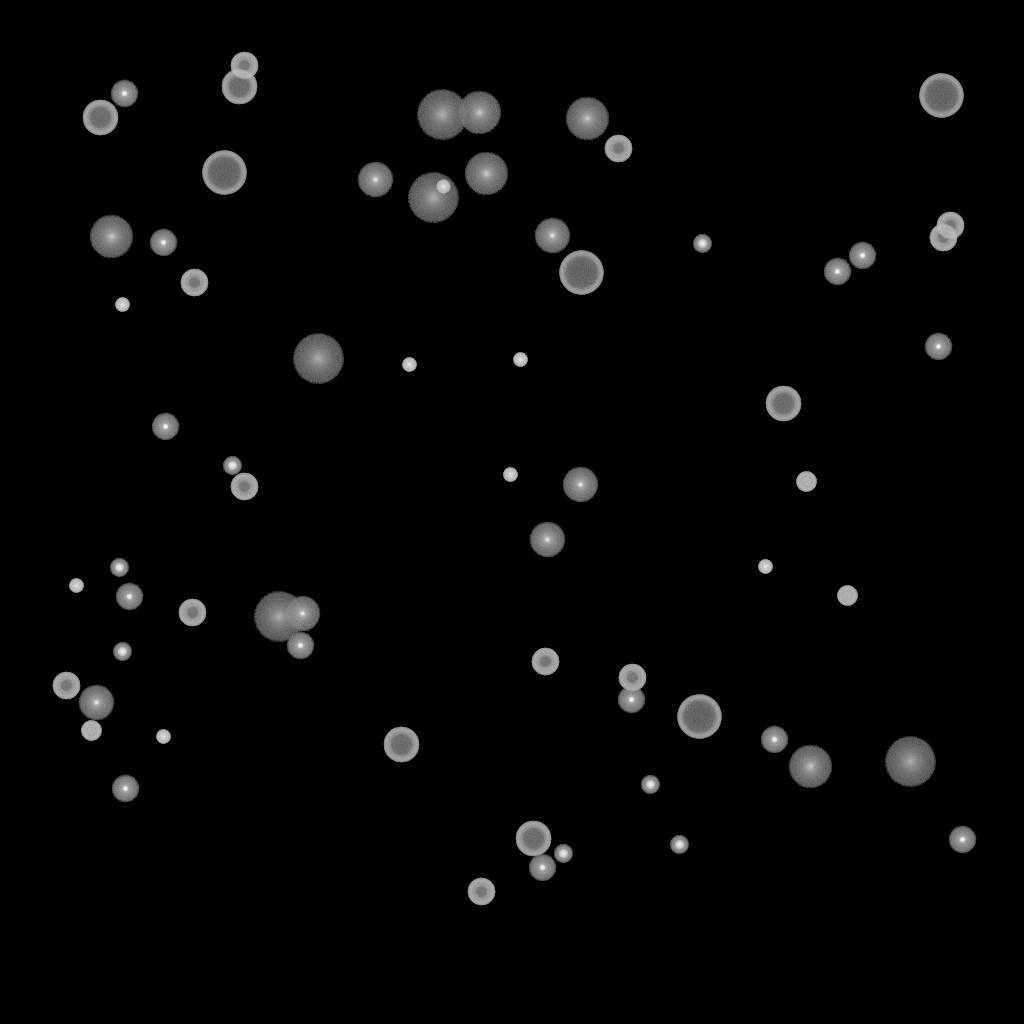depth:-10: (110, 80, 138, 108), (111, 775, 139, 803), (760, 726, 788, 754), (286, 632, 314, 660), (151, 413, 179, 441), (823, 258, 851, 286), (617, 686, 645, 714), (528, 854, 556, 882), (149, 229, 177, 257), (848, 242, 876, 270), (948, 826, 976, 854), (924, 333, 952, 361), (115, 583, 143, 611)
depth:-20: (670, 836, 688, 854), (693, 235, 711, 253), (223, 457, 241, 475), (113, 643, 131, 661), (554, 845, 572, 863), (110, 559, 128, 577), (641, 776, 659, 794)
depth:-30: (758, 560, 772, 574), (503, 468, 517, 482), (115, 298, 129, 312), (436, 180, 450, 194), (402, 358, 416, 372), (69, 579, 83, 593), (513, 353, 527, 367), (156, 730, 170, 744)
depth:-40: (796, 472, 816, 492), (837, 586, 857, 606), (81, 721, 101, 741)
depth:-50: (604, 135, 632, 163), (929, 224, 957, 252), (936, 212, 964, 240), (618, 664, 646, 692), (180, 269, 208, 297), (178, 599, 206, 627), (531, 648, 559, 676), (230, 473, 258, 501), (230, 52, 258, 80), (52, 672, 80, 700), (467, 878, 495, 906)
depth:-60: (515, 821, 551, 857), (765, 386, 801, 422), (383, 727, 419, 763), (82, 100, 118, 136), (221, 69, 257, 105)
depth:-70: (202, 151, 246, 195), (919, 74, 963, 118), (559, 251, 603, 295), (677, 695, 721, 739)
depth:0: (78, 685, 114, 721), (562, 467, 598, 503), (529, 522, 565, 558), (284, 596, 320, 632), (534, 218, 570, 254), (357, 162, 393, 198)
depth:10: (788, 745, 832, 789), (457, 91, 501, 135), (464, 152, 508, 196), (565, 97, 609, 141), (89, 215, 133, 259)
depth:20: (292, 334, 344, 384), (416, 90, 468, 140), (407, 173, 459, 223), (884, 737, 936, 787), (253, 592, 305, 642)
